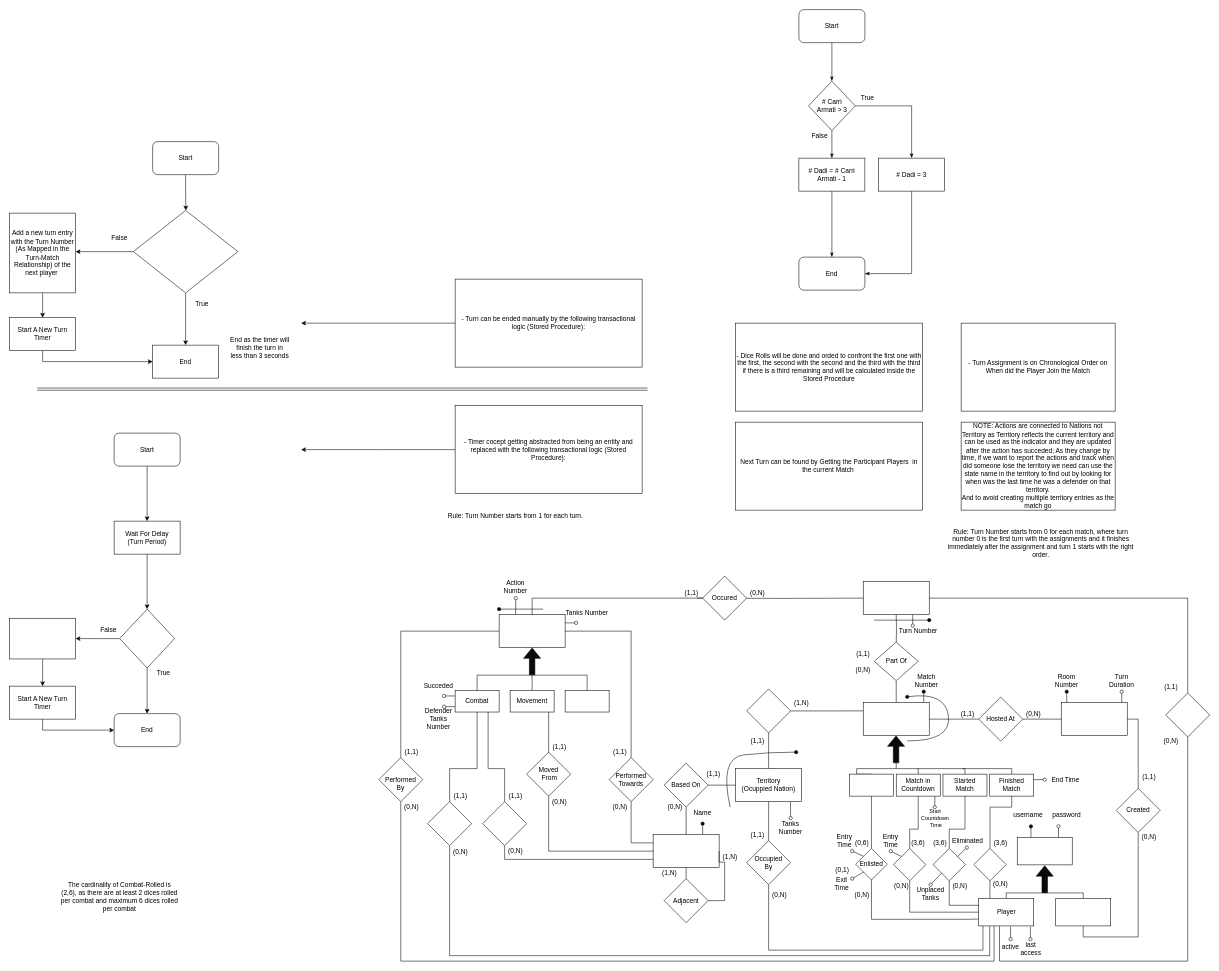
This 1219x971 diagram has some shape labels left out. The centre of each missing label's shape, as x and y in pixels:
"Action" goes at [532,631].
"Attack Against" goes at [449,823].
"Attack From" goes at [504,823].
"Check if the turn was passed" goes at [147,638].
"Create a new turn entry with the playerID of the next turn" goes at [42,638].
"Is difference between start-time and timer delay (For the timer) is < 3" goes at [185,251].
"Lobby" goes at [871,785].
"Match" goes at [896,719].
"Moderator" goes at [1083,912].
"Nation" goes at [686,851].
"Occupied During" goes at [768,710].
"Placement" goes at [587,701].
"Played At" goes at [989,864].
"Playing In" goes at [949,864].
"Room" goes at [1094,719].
"Turn" goes at [896,598].
"Turn Of" goes at [1187,714].
"User" goes at [1044,851].
"Waiting In" goes at [909,864].
